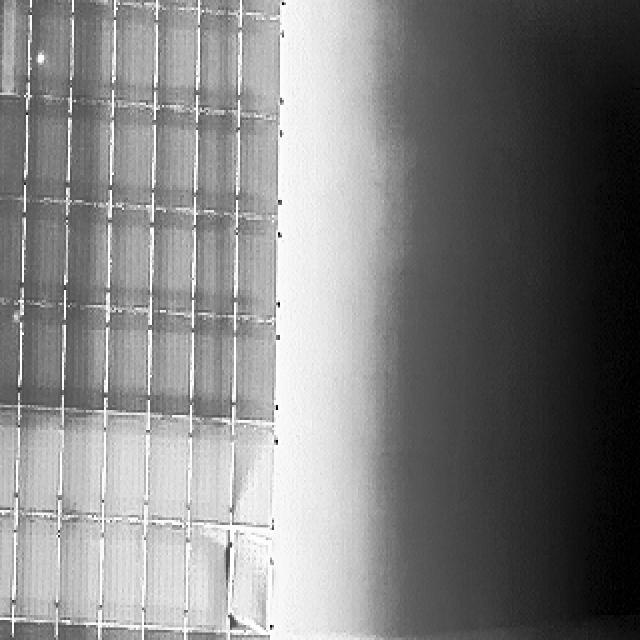Hotspots: (34, 48, 51, 68)
PV-modules: (96, 521, 142, 629), (190, 214, 237, 319), (188, 416, 233, 525), (55, 520, 101, 626), (58, 412, 104, 518), (187, 524, 232, 632), (190, 320, 235, 426), (63, 207, 108, 312), (67, 101, 112, 206), (60, 307, 105, 411), (194, 112, 239, 216), (234, 423, 278, 529), (15, 515, 59, 621), (237, 318, 280, 426), (21, 305, 66, 408), (25, 202, 69, 307), (18, 412, 62, 517), (156, 5, 200, 110), (103, 418, 147, 523), (106, 311, 150, 415), (26, 98, 70, 202), (108, 210, 152, 314), (68, 2, 112, 106), (153, 318, 196, 424), (141, 523, 184, 629), (145, 414, 188, 520), (149, 208, 193, 311), (239, 115, 283, 218), (238, 214, 281, 319), (196, 6, 239, 111), (112, 0, 156, 102), (239, 14, 282, 118), (110, 104, 153, 206), (157, 109, 199, 212), (28, 0, 72, 98), (233, 530, 273, 630), (0, 0, 28, 98), (0, 95, 24, 197), (0, 302, 22, 408), (0, 198, 22, 300), (0, 402, 14, 510), (0, 512, 14, 620), (240, 0, 284, 18), (195, 0, 240, 15), (12, 625, 56, 640), (138, 627, 182, 640), (56, 627, 98, 640), (92, 630, 136, 640), (186, 632, 226, 640), (222, 635, 268, 640), (0, 622, 6, 640)
